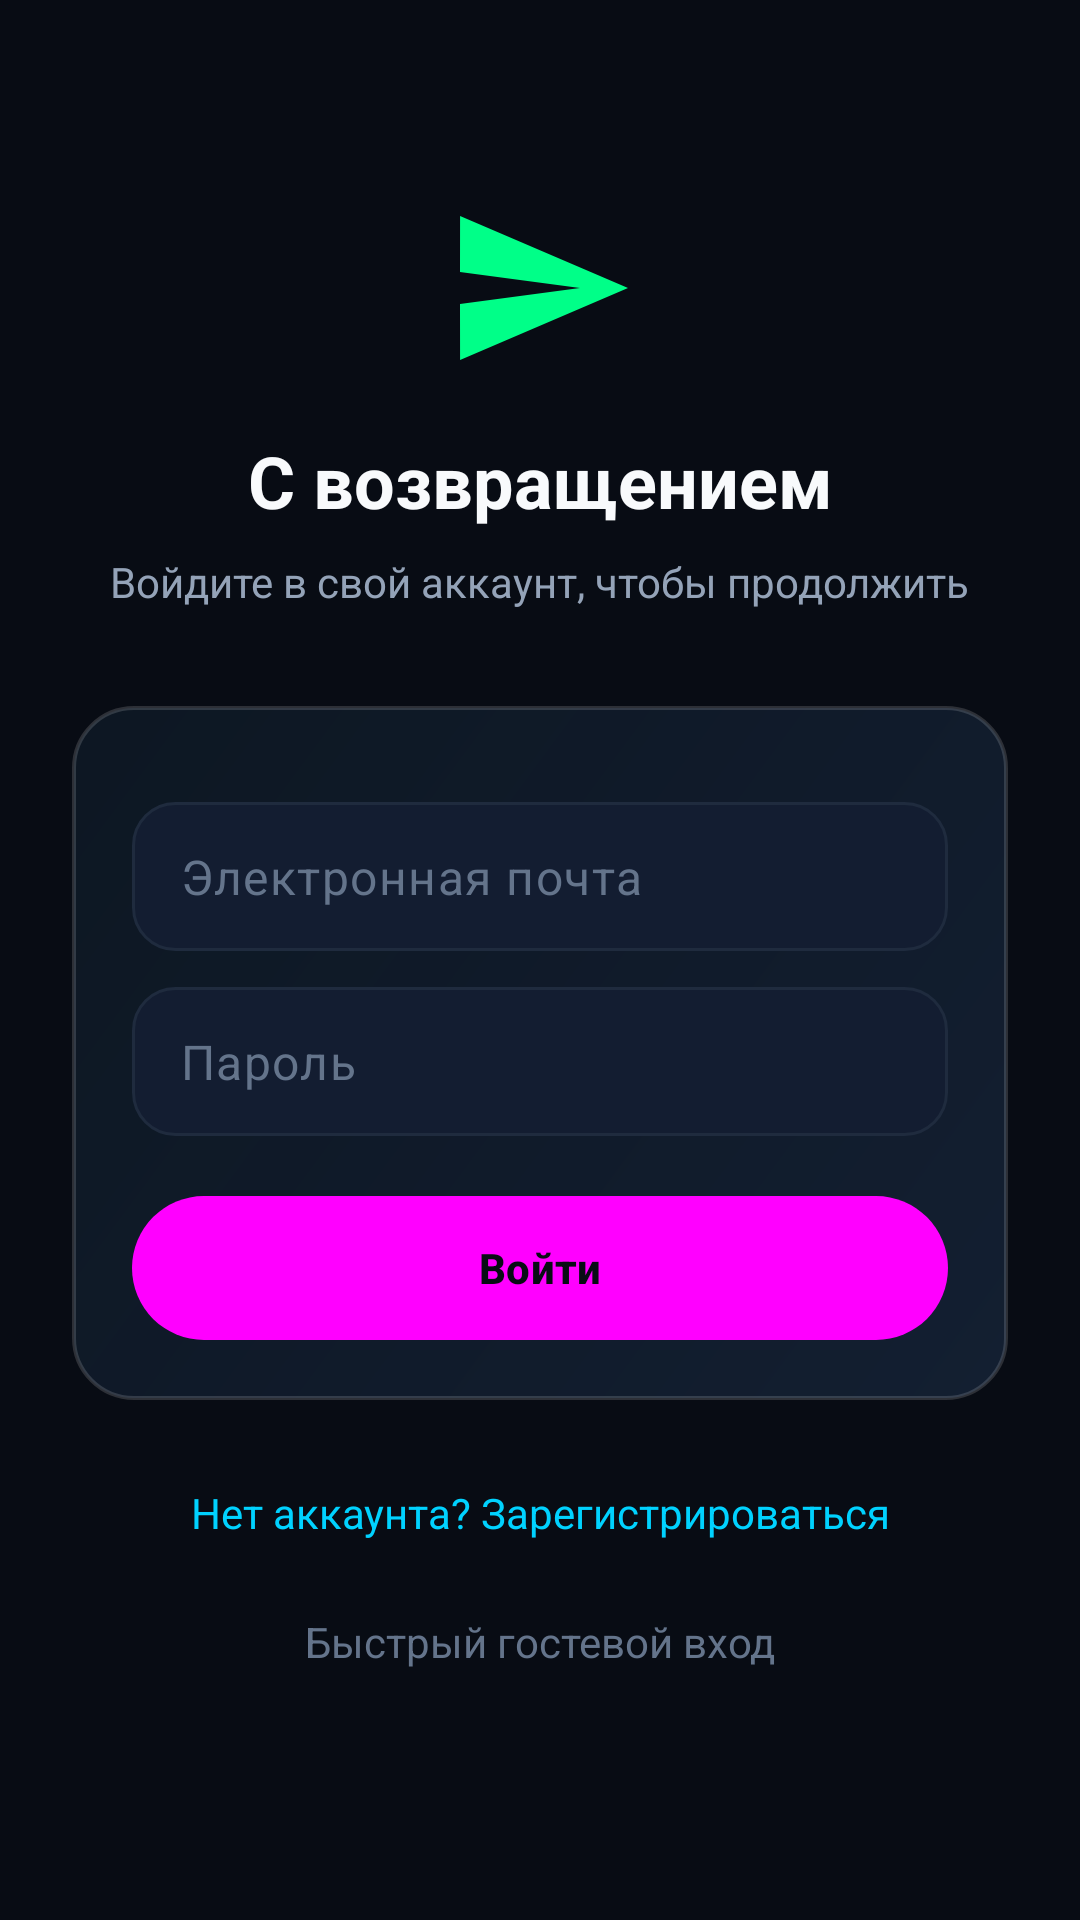

Where to tap for icons on this 1080 × 1920 app screen, as point (x, y):
send: point (544, 288)
